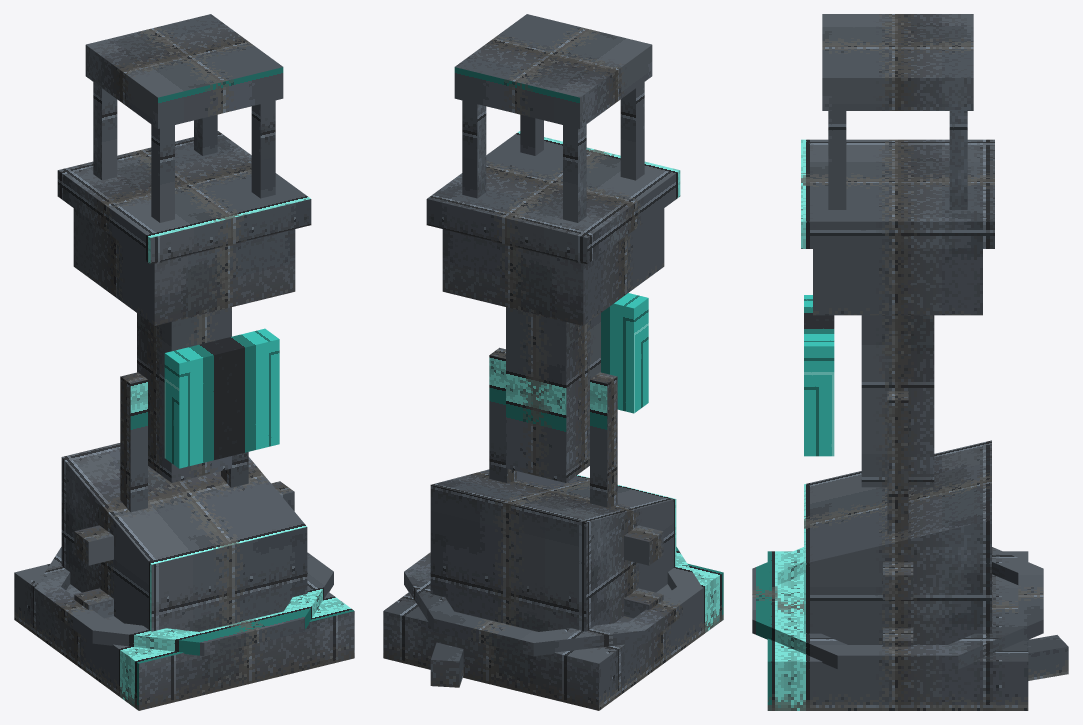
File: check_mast.glb
3 renders of one model, left to right at view 1: azimuth 30°, elevation 25°; view 2: azimuth 150°, elevation 25°; view 3: azimuth 270°, elevation 25°, orthographic. The views are drawn at different scales.
Parts seen in each view (by area): view 1: check_mast; view 2: check_mast; view 3: check_mast.
Part boxes in pixels (<box>): check_mast: <box>14,14,354,710</box>; check_mast: <box>383,14,723,710</box>; check_mast: <box>752,14,1068,710</box>.
Size of the model in its own units: 0.9608 by 2.22 by 1.04.
Materials: 2 (2 with a texture image).
